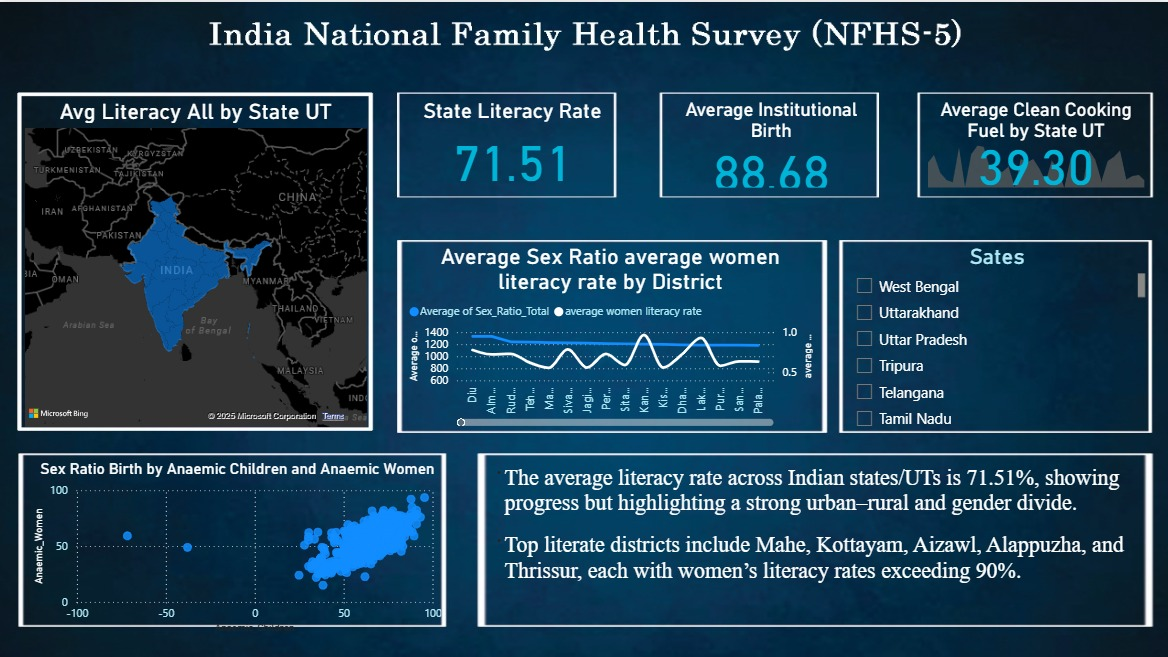

The page's visual inventory and layout, read from the dashboard file:
{"tool":"powerbi","page":{"name":"Page 1","canvas":[1280,720],"ordinal":0},"visuals":[{"type":"filledMap","title":"Avg Literacy All by State UT","fields":{"Category":["District_Facts.State_UT"]},"box":[22.9,104.3,384.3,364.3],"z":0},{"type":"slicer","title":"Sates","fields":{"Values":["District_Facts.State_UT"]},"box":[924.3,264.3,332.9,204.3],"z":1000},{"type":"card","title":"State Literacy Rate","fields":{"Values":["District_Facts.Avg_Literacy_All"]},"box":[431.4,104.3,260,102.9],"z":2000},{"type":"card","title":"Average Institutional Birth","fields":{"Values":["Avg(District_Facts.Institutional_Births)"]},"box":[731.4,104.3,225.7,102.9],"z":3000},{"type":"lineChart","title":"Average Sex Ratio average women literacy rate by District","fields":{"Category":["District_Facts.District"],"Y2":["District_Facts.average women literacy rate"],"Y":["Avg(District_Facts.Sex_Ratio_Total)"]},"box":[442.9,264.3,451.4,204.3],"z":4000},{"type":"scatterChart","title":"Sex Ratio Birth by Anaemic Children and Anaemic Women","fields":{"Y":["District_Facts.Anaemic_Women"],"X":["District_Facts.Anaemic_Children"]},"box":[32.9,500,455.7,194.3],"z":5000},{"type":"kpi","title":"Average Clean Cooking Fuel by State UT","fields":{"TrendLine":["State_List.State_UT"],"Indicator":["Avg(District_Facts.Clean_Cooking_Fuel)"]},"box":[1010,104.3,247.1,102.9],"z":6000},{"type":"textbox","box":[530,500,728,194],"z":7000}]}

Visuals, with their boxes in screenshot pixels (x1, y1, x2, y2), scaled from the page's 1280x720 canvas onto the 1168x657 screenshot:
"Avg Literacy All by State UT" filledMap: [x1=21, y1=95, x2=372, y2=428]
"Sates" slicer: [x1=843, y1=241, x2=1147, y2=428]
"State Literacy Rate" card: [x1=394, y1=95, x2=631, y2=189]
"Average Institutional Birth" card: [x1=667, y1=95, x2=873, y2=189]
"Average Sex Ratio average women literacy rate by District" lineChart: [x1=404, y1=241, x2=816, y2=428]
"Sex Ratio Birth by Anaemic Children and Anaemic Women" scatterChart: [x1=30, y1=456, x2=446, y2=634]
"Average Clean Cooking Fuel by State UT" kpi: [x1=922, y1=95, x2=1147, y2=189]
textbox: [x1=484, y1=456, x2=1148, y2=633]
